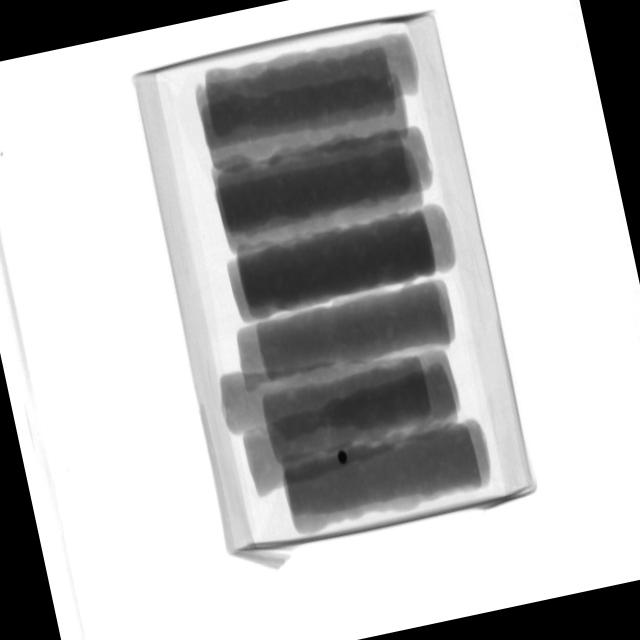ym: (338, 450, 351, 467)
